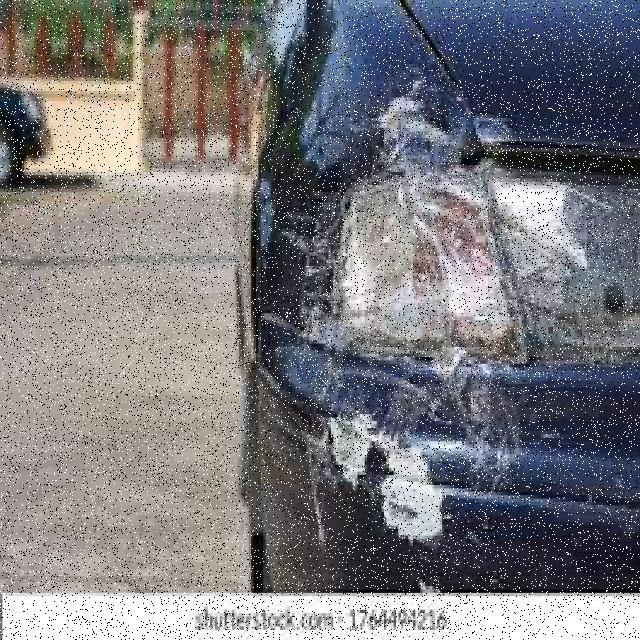Headlight-Damage: (261, 91, 638, 401)
front-bumper-dent: (213, 310, 638, 603)
